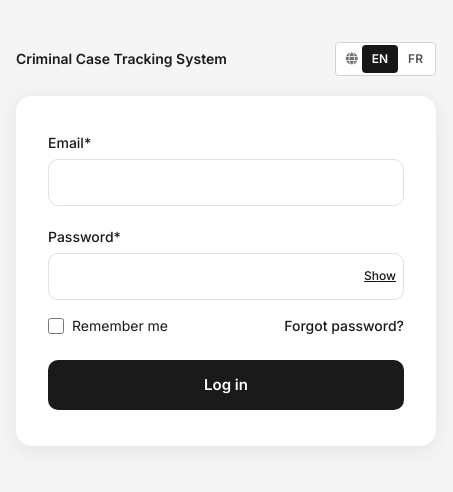
Test: sign in and routing › shows plain-language validation for empty fields
Click the button "Log in" at [226, 385], box [48,360,404,410]
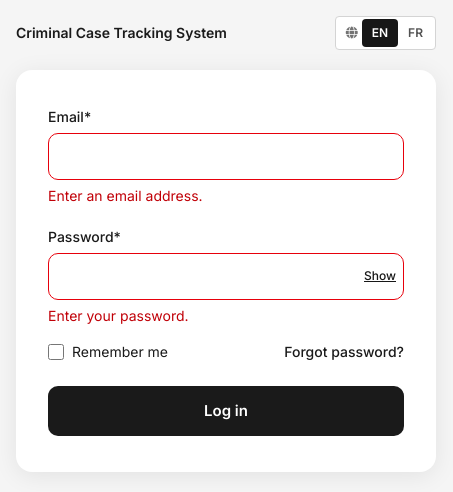
Now the text "Enter an email address." is shown, box [48,187,203,204]
Now the text "Enter your password." is shown, box [48,307,189,324]
